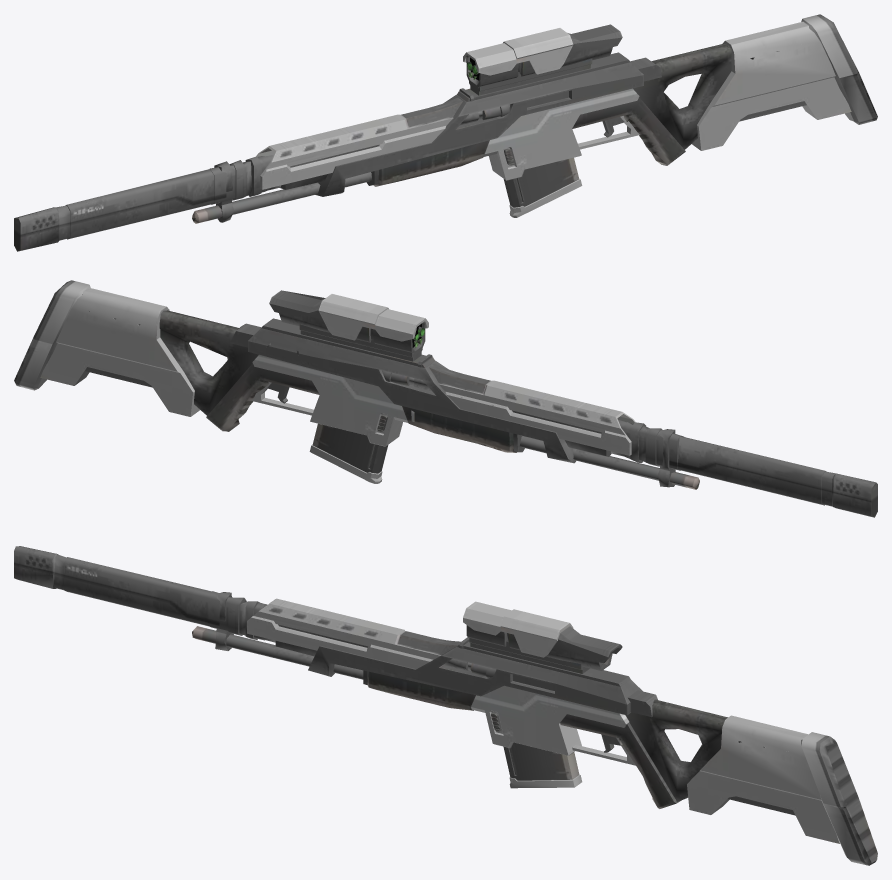
File: sniper.glb
3 views of the same model, one above another, from view 1: azimuth 30°, elevation 25°; view 2: azimuth 150°, elevation 25°; view 3: azimuth 330°, elevation 25° (orthographic).
Parts seen in each view (by area): view 1: Gun_Sniper; view 2: Gun_Sniper; view 3: Gun_Sniper.
Part boxes in pixels (bbox=[...]): Gun_Sniper: bbox=[14, 14, 877, 251]; Gun_Sniper: bbox=[14, 280, 877, 517]; Gun_Sniper: bbox=[14, 546, 877, 865].
Size of the model in its own units: 5.21 by 0.9998 by 0.1792.
1 material, 1 textured.
